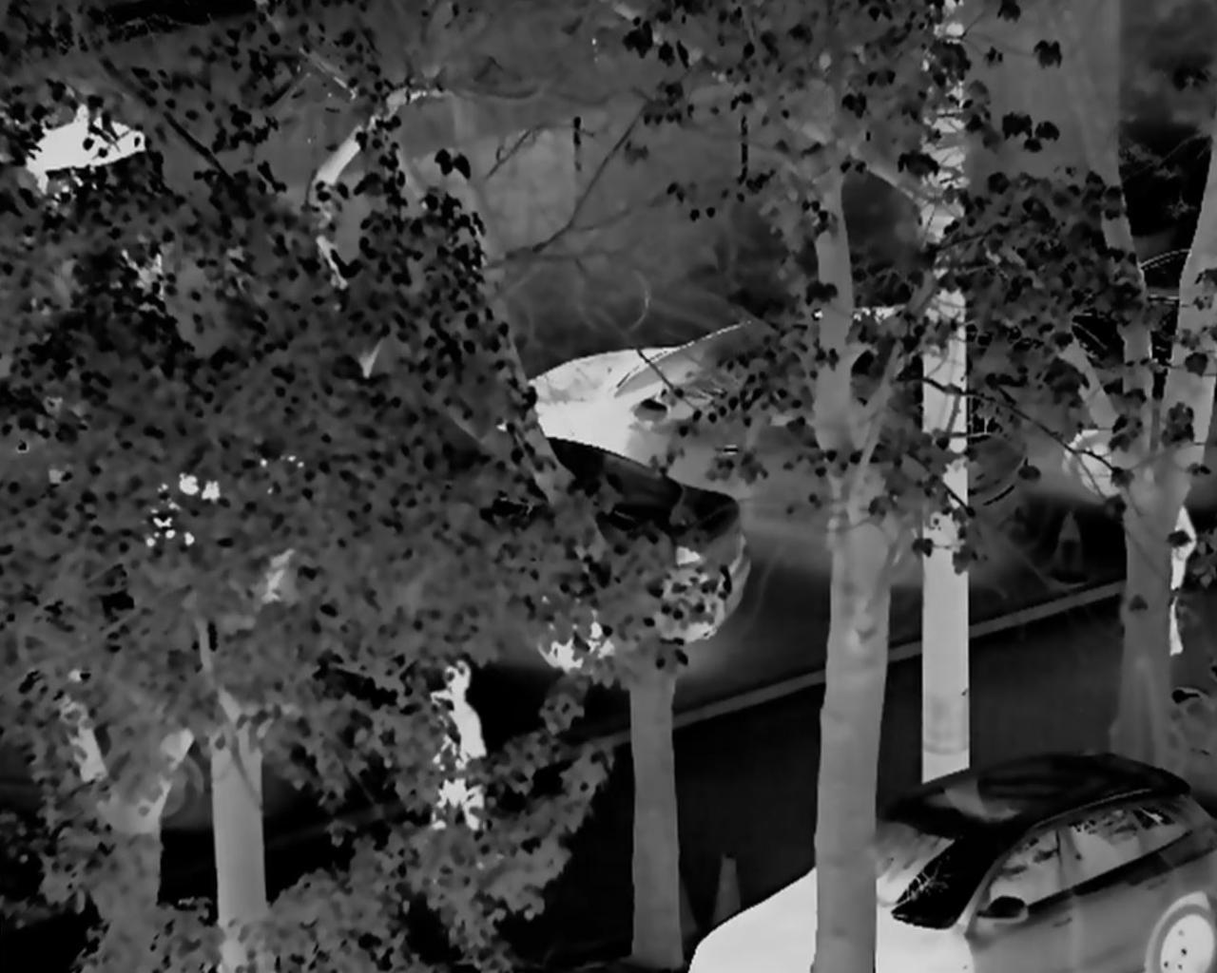person: (412, 656, 488, 900)
